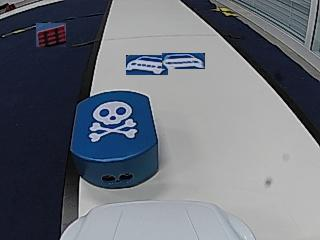danger: (89, 105, 136, 141)
